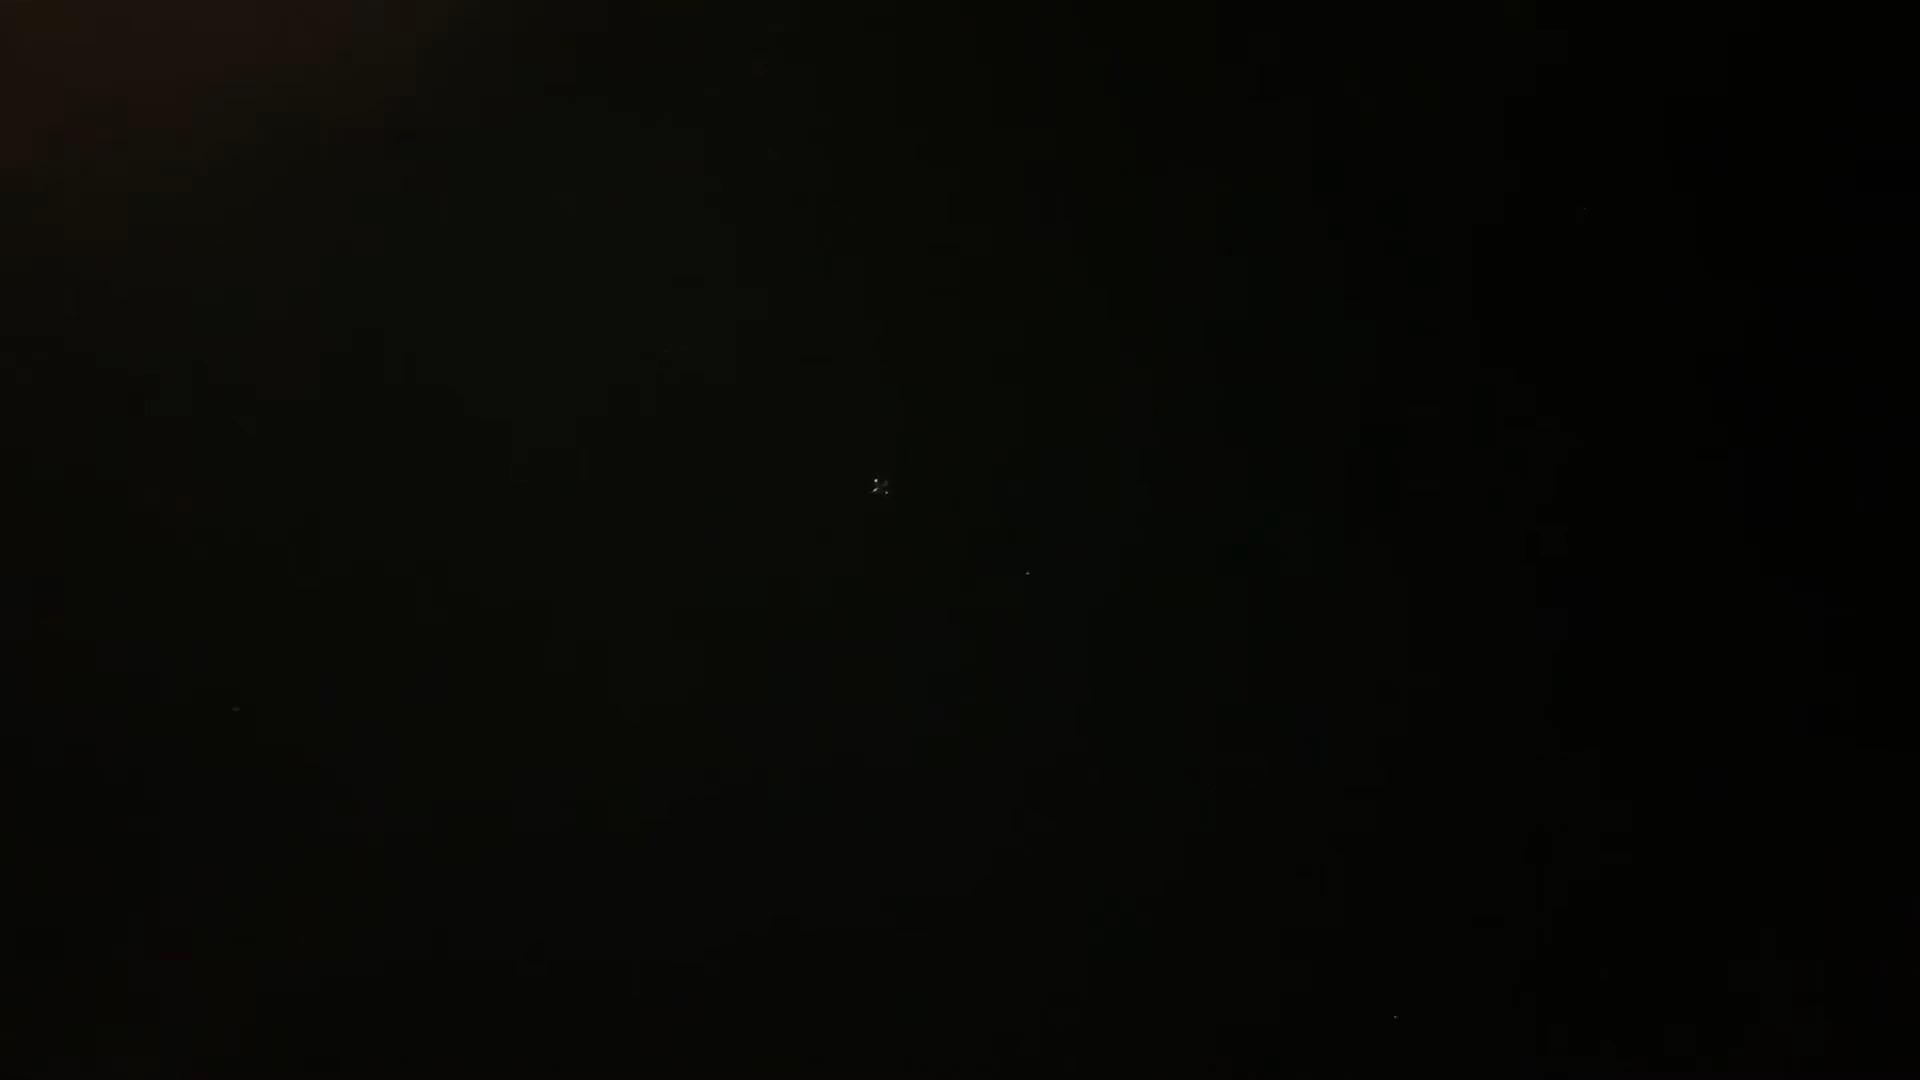Plane: (855, 459, 909, 520)
